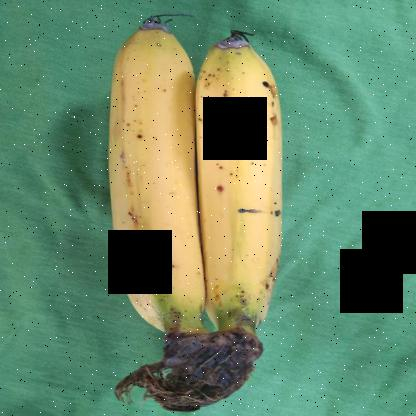ripe: (93, 20, 224, 332), (185, 32, 293, 328)
